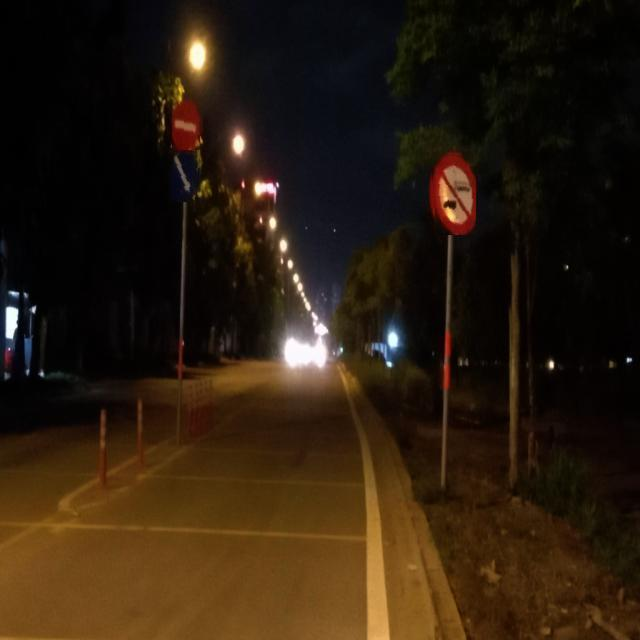102-cam-di-nguoc-chieu: (168, 99, 202, 151)
107-cam-oto-khach-va-oto-tai: (429, 152, 476, 235)
302a-huong-phai-di-vong-chuong-ngai-vat-1: (167, 152, 197, 196)
